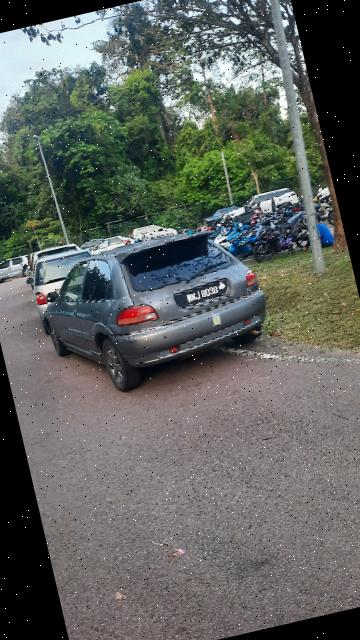License_Plate: (173, 278, 238, 311)
car: (25, 213, 300, 407)
